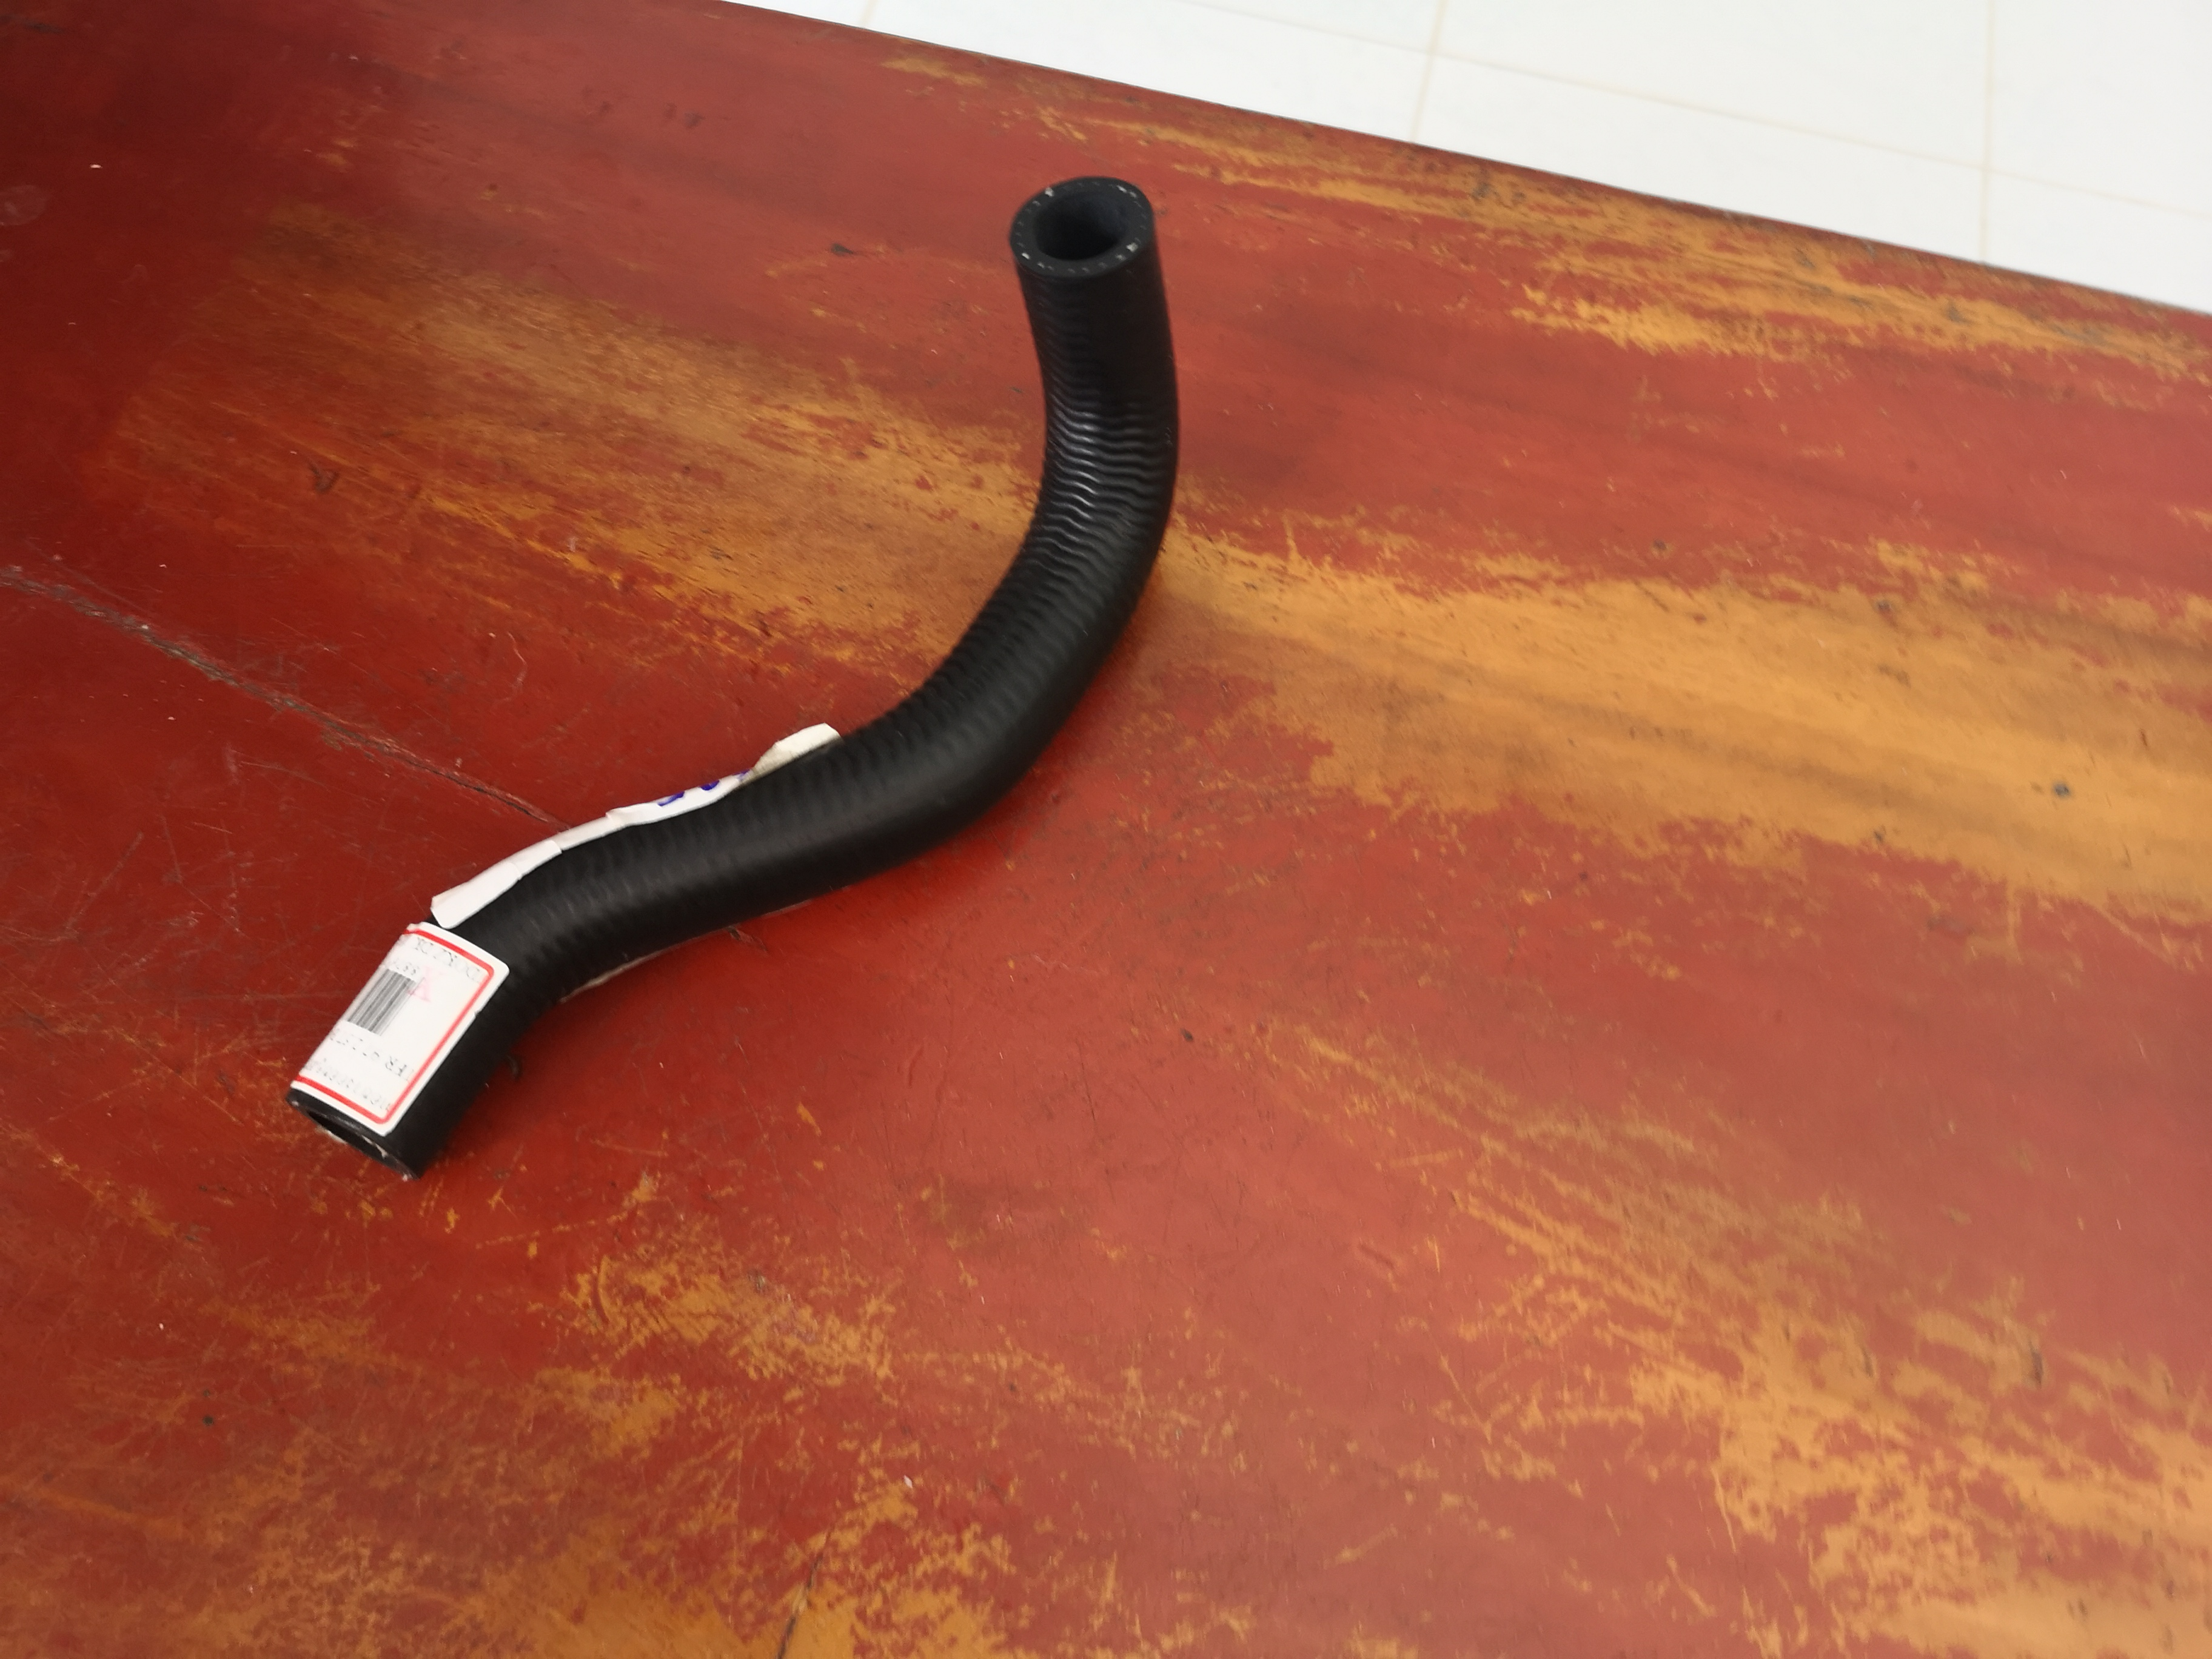ท่อยางน้ำมันเลี้ยงเทอร์โบ: (289, 173, 1291, 1173)
